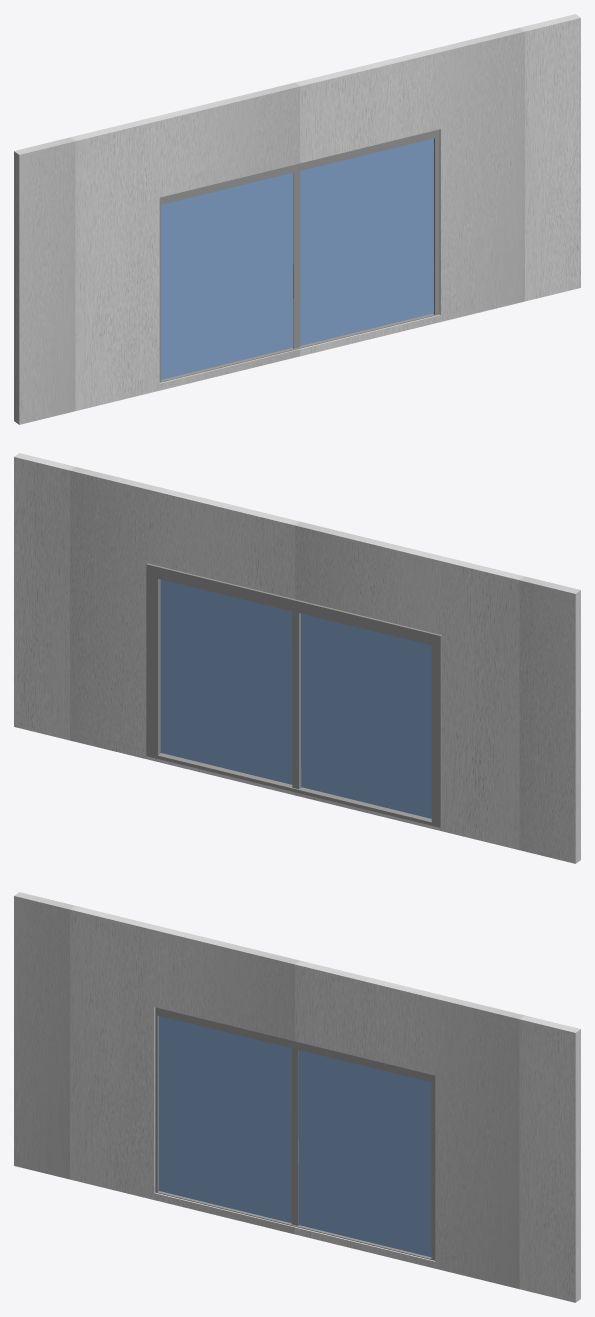
The model's file is murFenêtre1.fbx.
3 views of the same model, one above another, from view 1: azimuth 30°, elevation 25°; view 2: azimuth 150°, elevation 25°; view 3: azimuth 330°, elevation 25° (orthographic).
Visible parts, largest first — view 1: msh_mûrFenêtre1; view 2: msh_mûrFenêtre1; view 3: msh_mûrFenêtre1.
Part boxes in pixels (x1,y1,x2,y2): msh_mûrFenêtre1: (14,14,580,424); msh_mûrFenêtre1: (14,453,580,863); msh_mûrFenêtre1: (14,892,580,1302).
Size of the model in its own units: 54.17 by 24.88 by 1.1.
3 materials, 1 textured.
